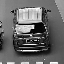motor: (14, 4, 54, 59)
